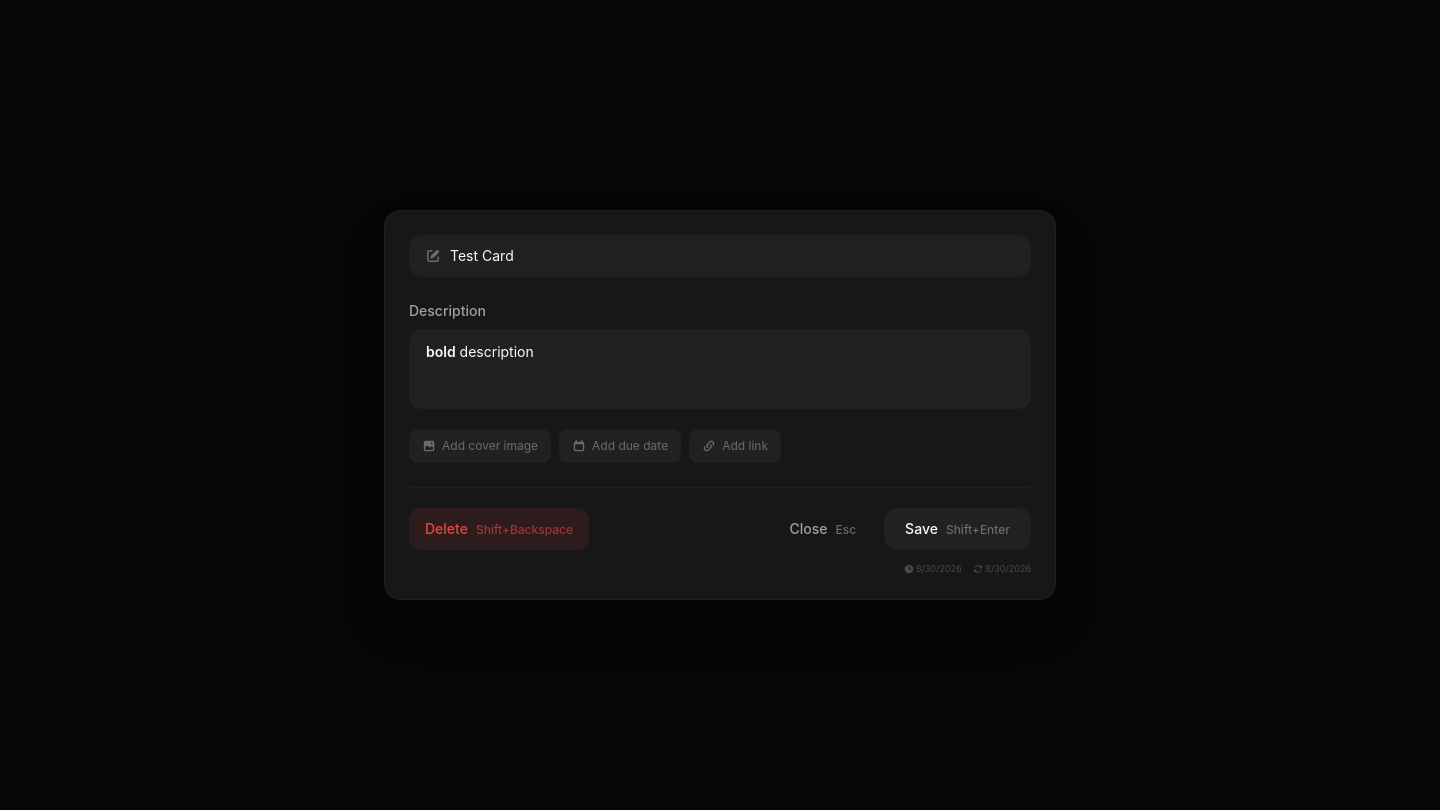
it: CardModal - markdown description › switches to the raw markdown editor when the preview is clicked
Click the button with aria-label "description, click to edit" at (495, 351), box [409,329,1031,409]
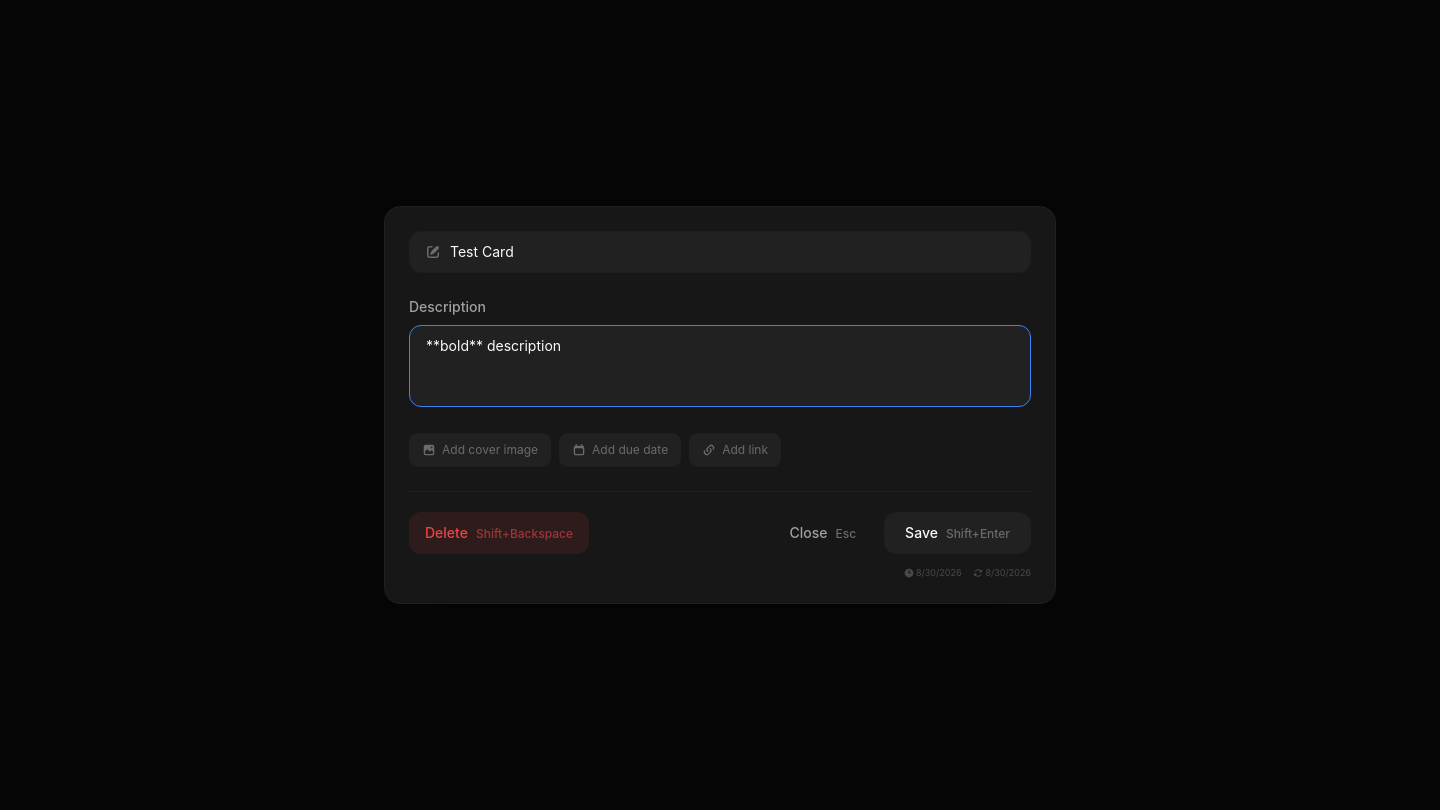
Check: the text box with placeholder "Add a description (markdown supported)" holds "**bold** description", box [409,325,1031,407]
